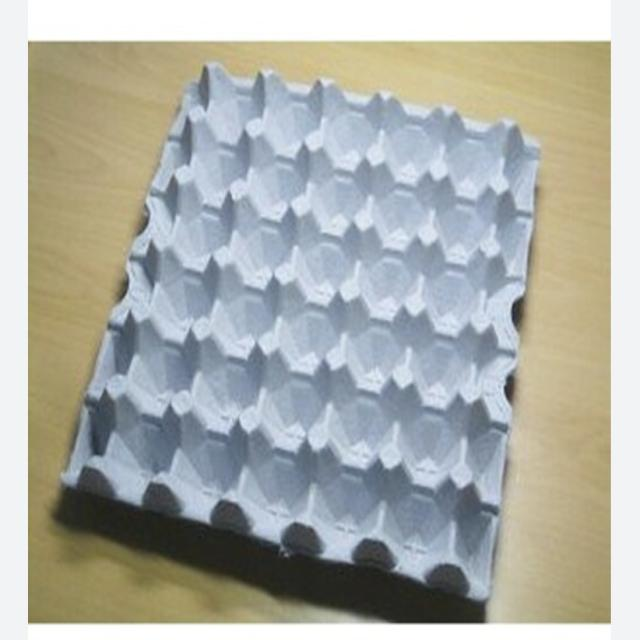biodegradable: (47, 56, 567, 619)
